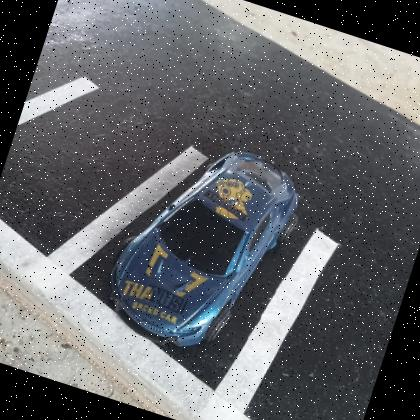Car: (109, 152, 298, 348)
